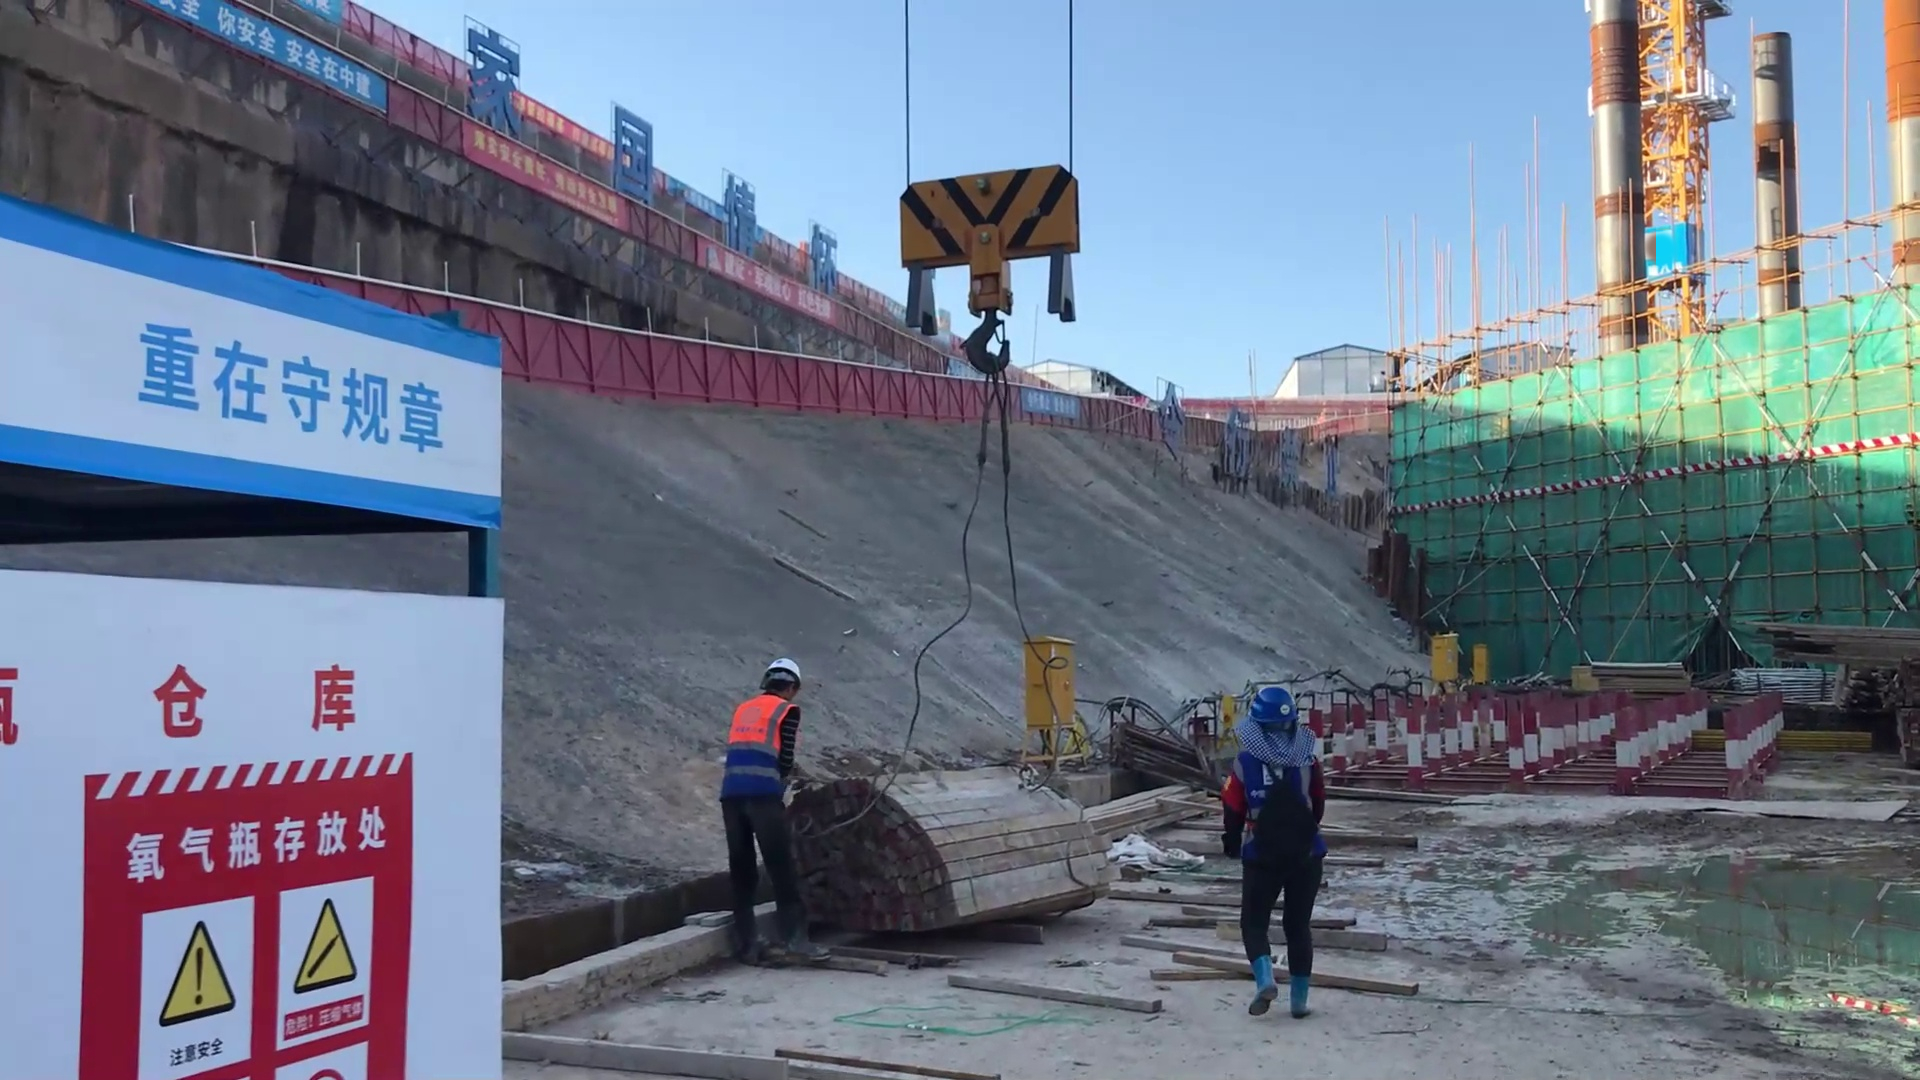ebox: (1017, 629, 1091, 734), (1430, 635, 1458, 683), (1470, 644, 1488, 685)
fence: (514, 313, 858, 424), (849, 356, 985, 427)
helmet: (751, 650, 809, 694), (1253, 685, 1298, 724)
hook: (891, 160, 1100, 326)
person: (1219, 674, 1341, 1035), (722, 651, 822, 968)
slogan: (48, 686, 420, 1080), (115, 304, 470, 457), (167, 1, 404, 129), (441, 134, 630, 248)
vest: (728, 692, 789, 760)
wood: (824, 761, 1109, 957), (1774, 621, 1920, 677)
